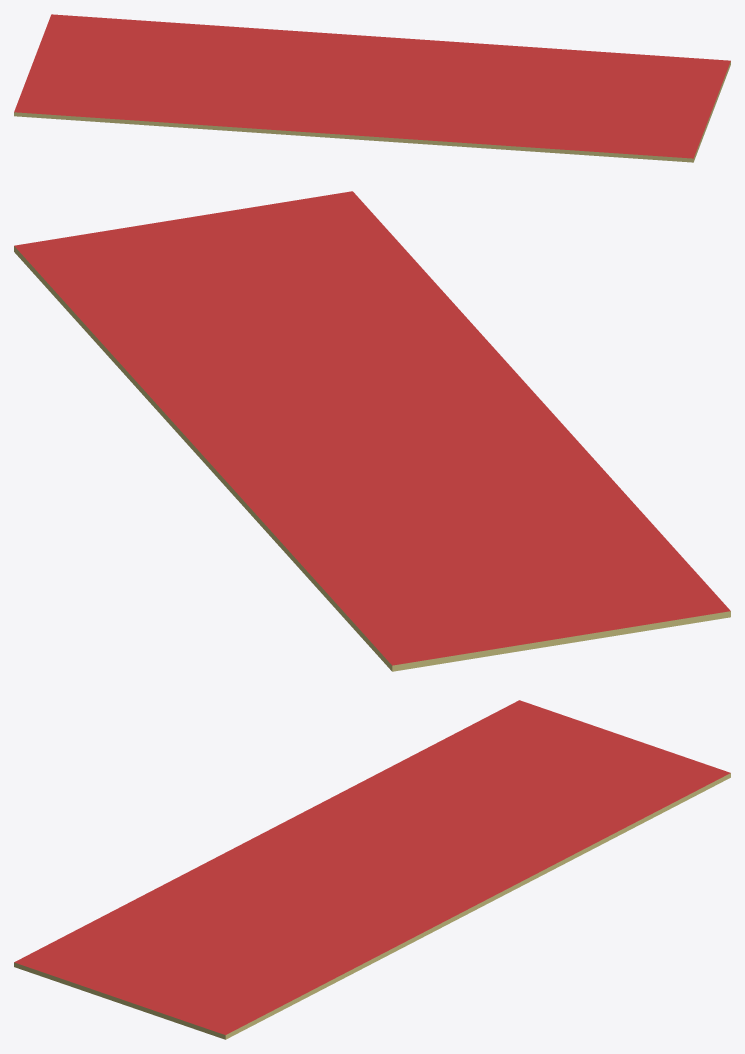
The picture shows the model from 3 angles, top to bottom: view 1: azimuth 30°, elevation 25°; view 2: azimuth 150°, elevation 25°; view 3: azimuth 270°, elevation 25°; orthographic projection. The views are drawn at different scales.
Visible parts, largest first — view 1: group_3, group_4; view 2: group_3, group_4; view 3: group_3, group_4.
Boxes of the visible parts, x1,y1,x2,y2 form: group_3: (14,14,730,158); group_4: (14,61,730,162); group_3: (14,191,730,665); group_4: (14,246,730,671); group_3: (14,700,730,1034); group_4: (14,773,730,1039).
Bounding box in the file's own units: 15.41 × 13.94 × 0.1.
